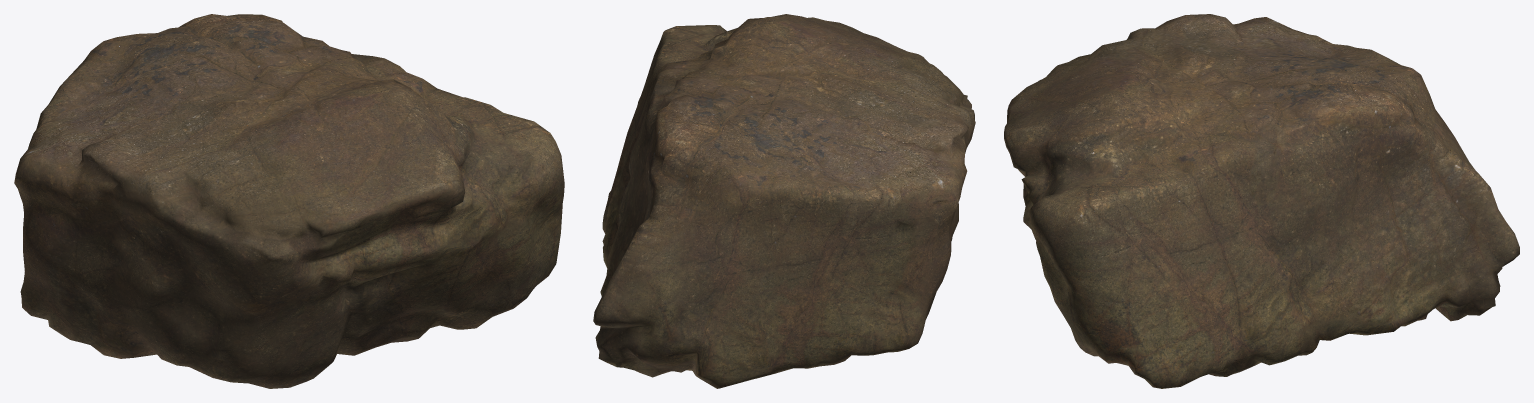
File: ufehch0fa_tier_2.gltf
The picture shows the model from 3 angles, left to right: view 1: azimuth 30°, elevation 25°; view 2: azimuth 150°, elevation 25°; view 3: azimuth 270°, elevation 25°; orthographic projection. The views are drawn at different scales.
Visible parts, largest first — view 1: ufehch0fa_LOD0_TIER2_000; view 2: ufehch0fa_LOD0_TIER2_000; view 3: ufehch0fa_LOD0_TIER2_000.
Boxes of the visible parts, box(x1,y1,x2,y2) form: ufehch0fa_LOD0_TIER2_000: box(14, 14, 564, 388); ufehch0fa_LOD0_TIER2_000: box(593, 14, 975, 388); ufehch0fa_LOD0_TIER2_000: box(1004, 14, 1519, 388).
Size of the model in its own units: 0.982 by 0.5564 by 1.04.
1 material, 1 textured.
